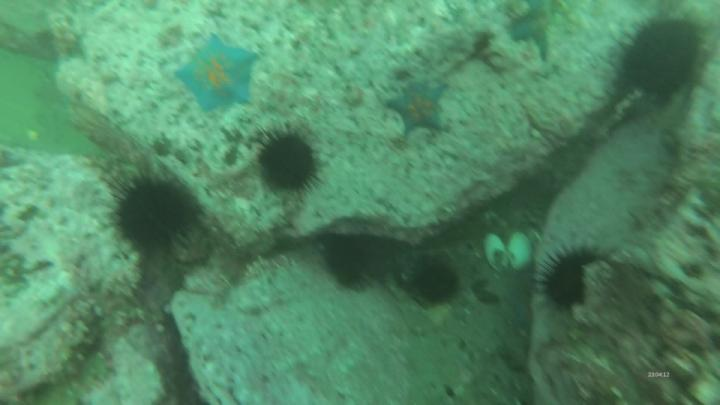echinus: (626, 20, 700, 92), (119, 184, 188, 243), (262, 135, 315, 188), (548, 249, 588, 305), (327, 237, 368, 283), (417, 265, 458, 301)
scallop: (484, 233, 535, 274)
starfish: (178, 41, 257, 110), (389, 84, 448, 134), (514, 3, 554, 61)
